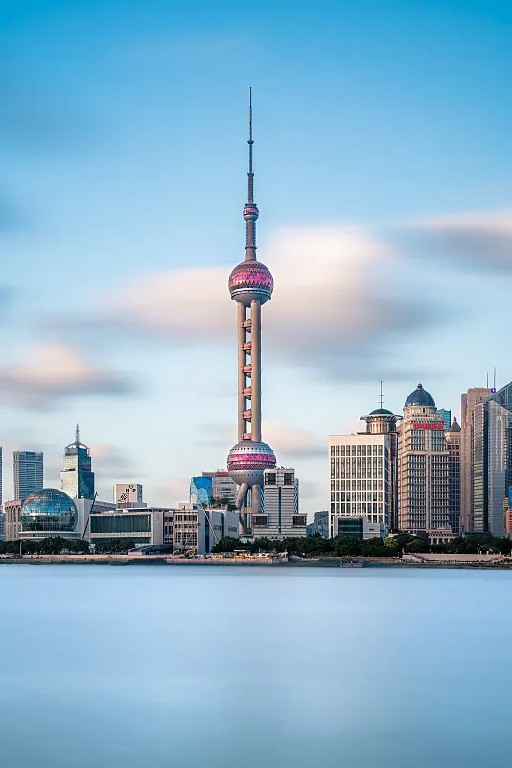Oriental: (227, 87, 276, 514)
